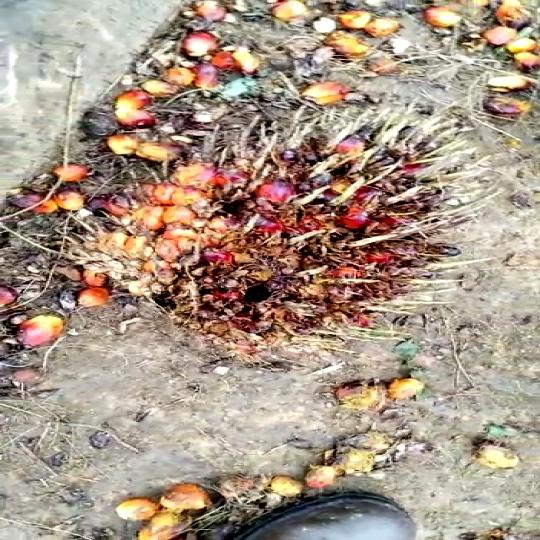terlalu masak: (68, 116, 540, 379)
